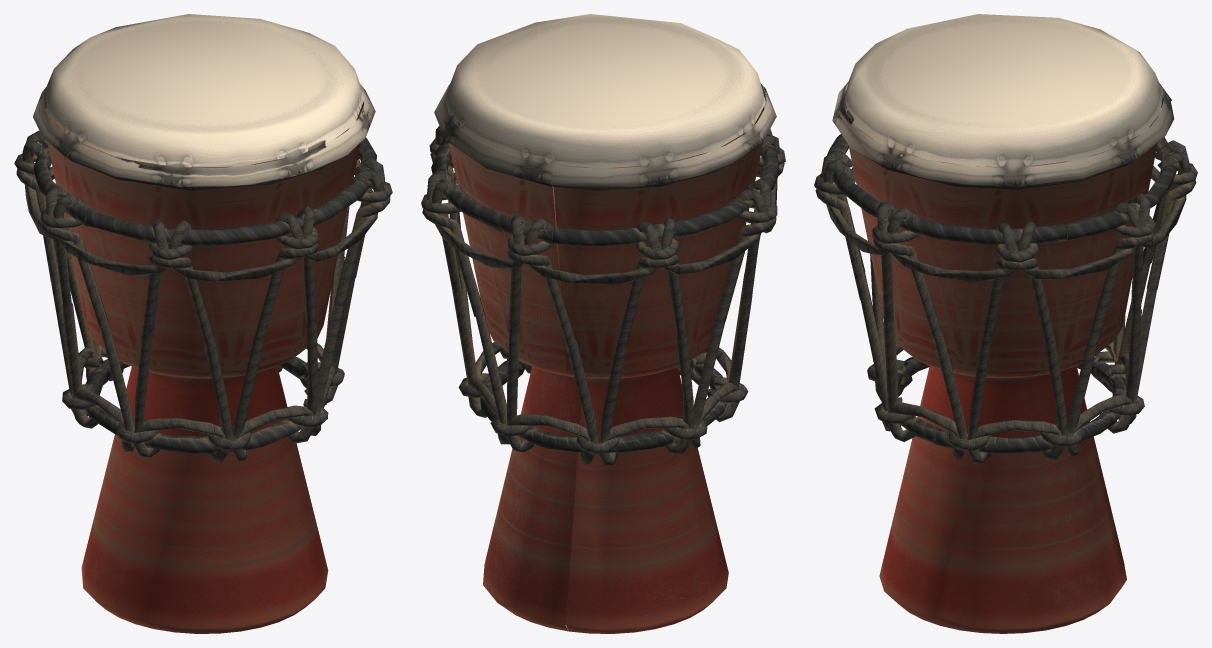
File: drum1.gltf
3 views of the same model, side by side, from view 1: azimuth 30°, elevation 25°; view 2: azimuth 150°, elevation 25°; view 3: azimuth 270°, elevation 25° (orthographic).
Parts seen in each view (by area): view 1: drum-ready, drum-ready_nitki; view 2: drum-ready, drum-ready_nitki; view 3: drum-ready, drum-ready_nitki.
Boxes of the visible parts, bbox=[...] form: drum-ready: bbox=[33, 14, 375, 633]; drum-ready_nitki: bbox=[14, 130, 392, 462]; drum-ready: bbox=[434, 14, 776, 633]; drum-ready_nitki: bbox=[421, 126, 785, 465]; drum-ready: bbox=[832, 14, 1174, 633]; drum-ready_nitki: bbox=[814, 134, 1197, 463].
Bounding box in the file's own units: 14.48 × 21.33 × 14.48.
2 materials, 2 textured.
